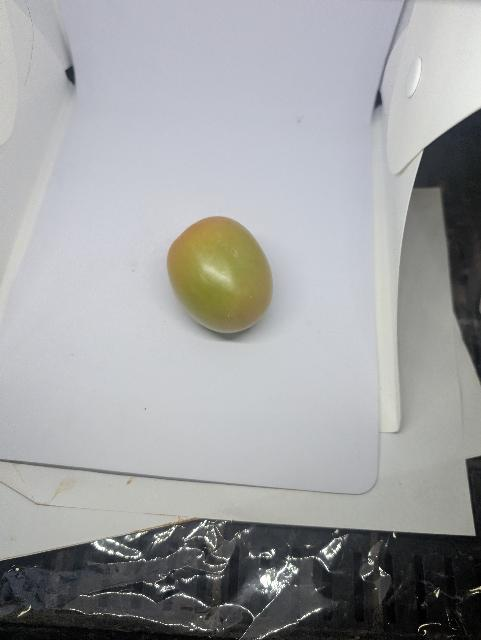breaker: (167, 217, 273, 333)
